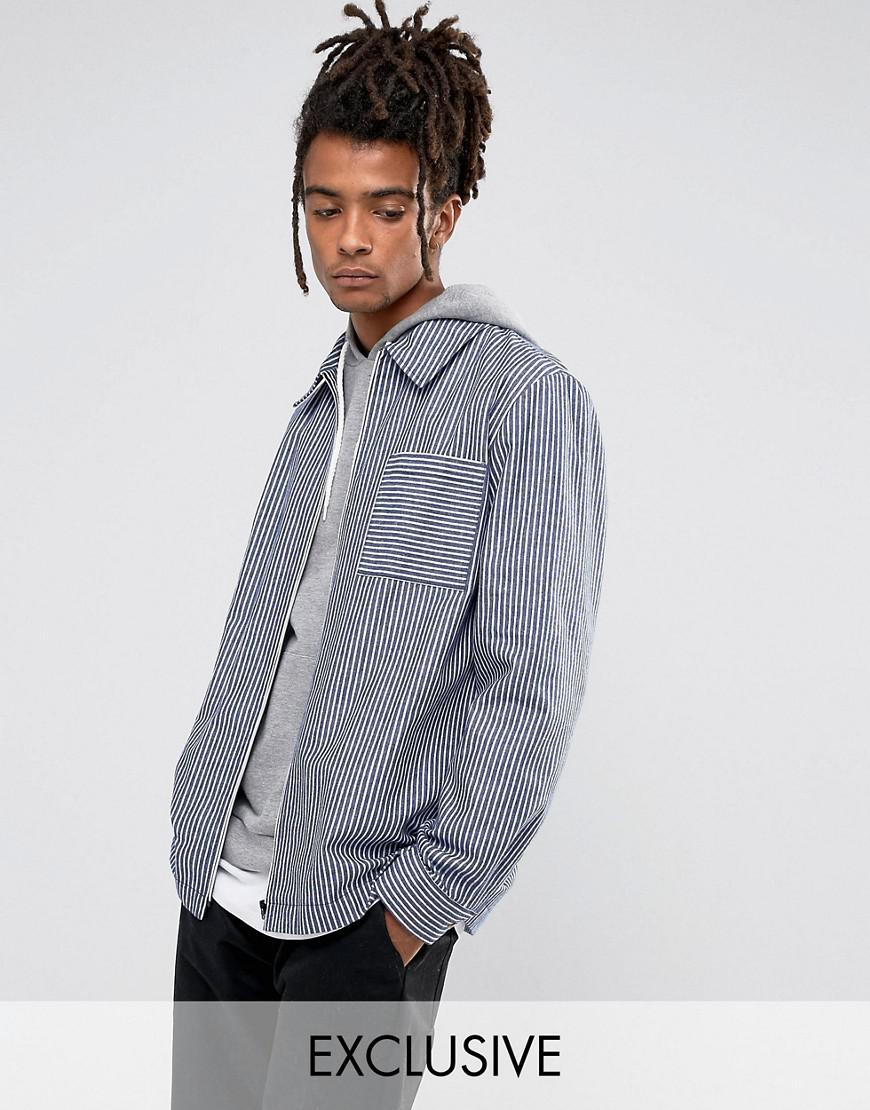teeshirt: (176, 317, 617, 940)
